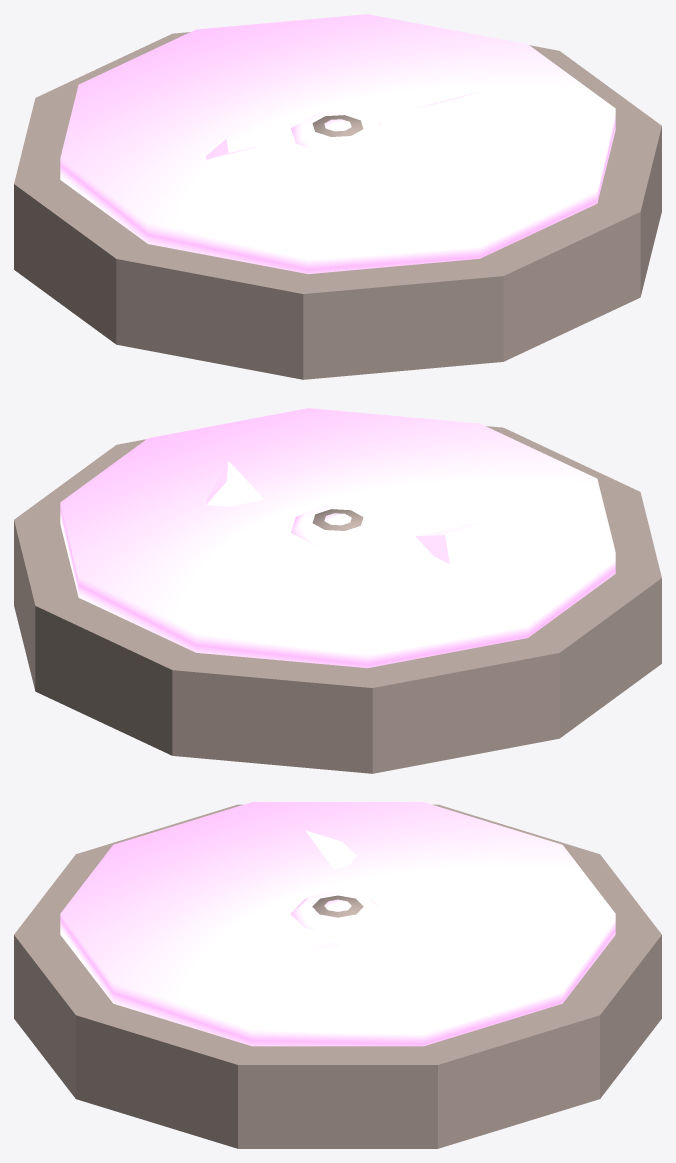
Rendered from Gimmick_ShrinkPad.fbx.
The picture shows the model from 3 angles, top to bottom: view 1: azimuth 30°, elevation 25°; view 2: azimuth 150°, elevation 25°; view 3: azimuth 270°, elevation 25°; orthographic projection. The views are drawn at different scales.
Visible parts, largest first — view 1: Gimmick_ShrinkPad_Top, Gimmick_ShrinkPad_Base, Gimmick_ShrinkPad, Gimmick_ShrinkPad_ArrowIn_-1; view 2: Gimmick_ShrinkPad_Top, Gimmick_ShrinkPad_Base, Gimmick_ShrinkPad, Gimmick_ShrinkPad_ArrowIn_-1; view 3: Gimmick_ShrinkPad_Top, Gimmick_ShrinkPad_Base, Gimmick_ShrinkPad, Gimmick_ShrinkPad_ArrowIn_-1.
Boxes of the visible parts, bbox=[...] form: Gimmick_ShrinkPad_Top: bbox=[60, 14, 615, 274]; Gimmick_ShrinkPad_Base: bbox=[14, 32, 661, 379]; Gimmick_ShrinkPad: bbox=[291, 85, 480, 153]; Gimmick_ShrinkPad_ArrowIn_-1: bbox=[206, 138, 264, 159]; Gimmick_ShrinkPad_Top: bbox=[60, 408, 615, 668]; Gimmick_ShrinkPad_Base: bbox=[14, 426, 661, 773]; Gimmick_ShrinkPad: bbox=[206, 461, 384, 547]; Gimmick_ShrinkPad_ArrowIn_-1: bbox=[415, 522, 480, 564]; Gimmick_ShrinkPad_Top: bbox=[60, 802, 615, 1046]; Gimmick_ShrinkPad_Base: bbox=[14, 804, 661, 1148]; Gimmick_ShrinkPad: bbox=[290, 891, 385, 973]; Gimmick_ShrinkPad_ArrowIn_-1: bbox=[305, 830, 357, 869].
Bounding box in the file's own units: 0.7989 × 0.183 × 0.84.
